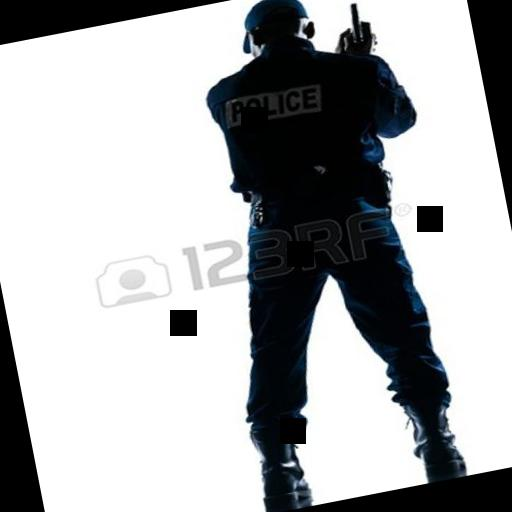Handgun: (342, 0, 366, 46)
